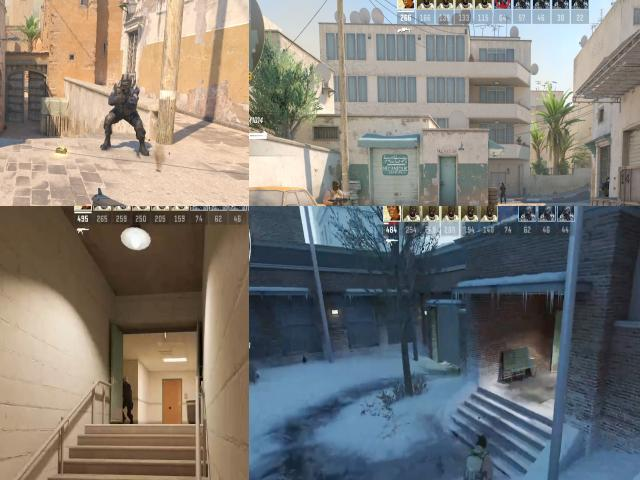Bomb: (53, 144, 71, 157)
CT: (104, 71, 148, 149), (602, 176, 611, 202), (501, 181, 506, 201)
CT-Head: (119, 74, 134, 92), (605, 176, 610, 182), (502, 183, 504, 188)
Dead: (120, 376, 138, 417)
T: (461, 439, 492, 480), (329, 181, 341, 206)
T-Head: (474, 429, 490, 450), (332, 181, 340, 192)
